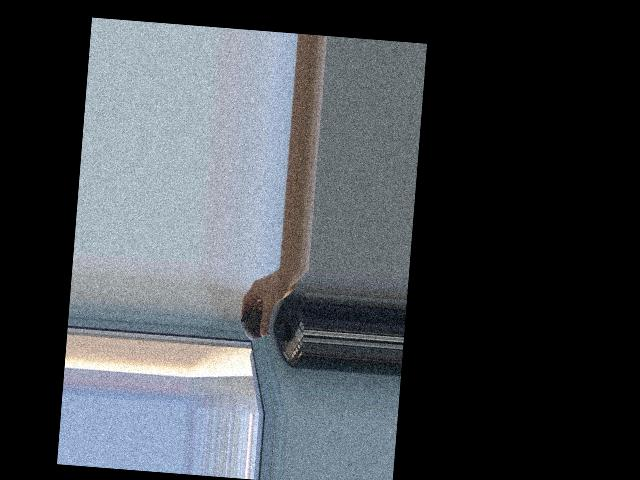beet: (239, 305, 272, 341)
